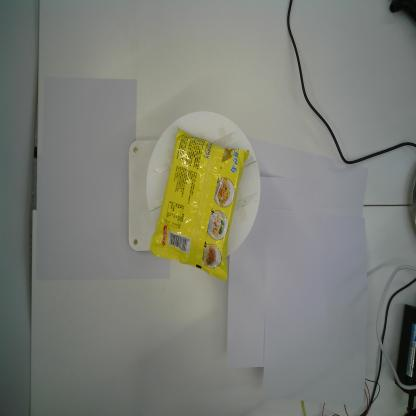Instant Noodles: (150, 126, 250, 282)
